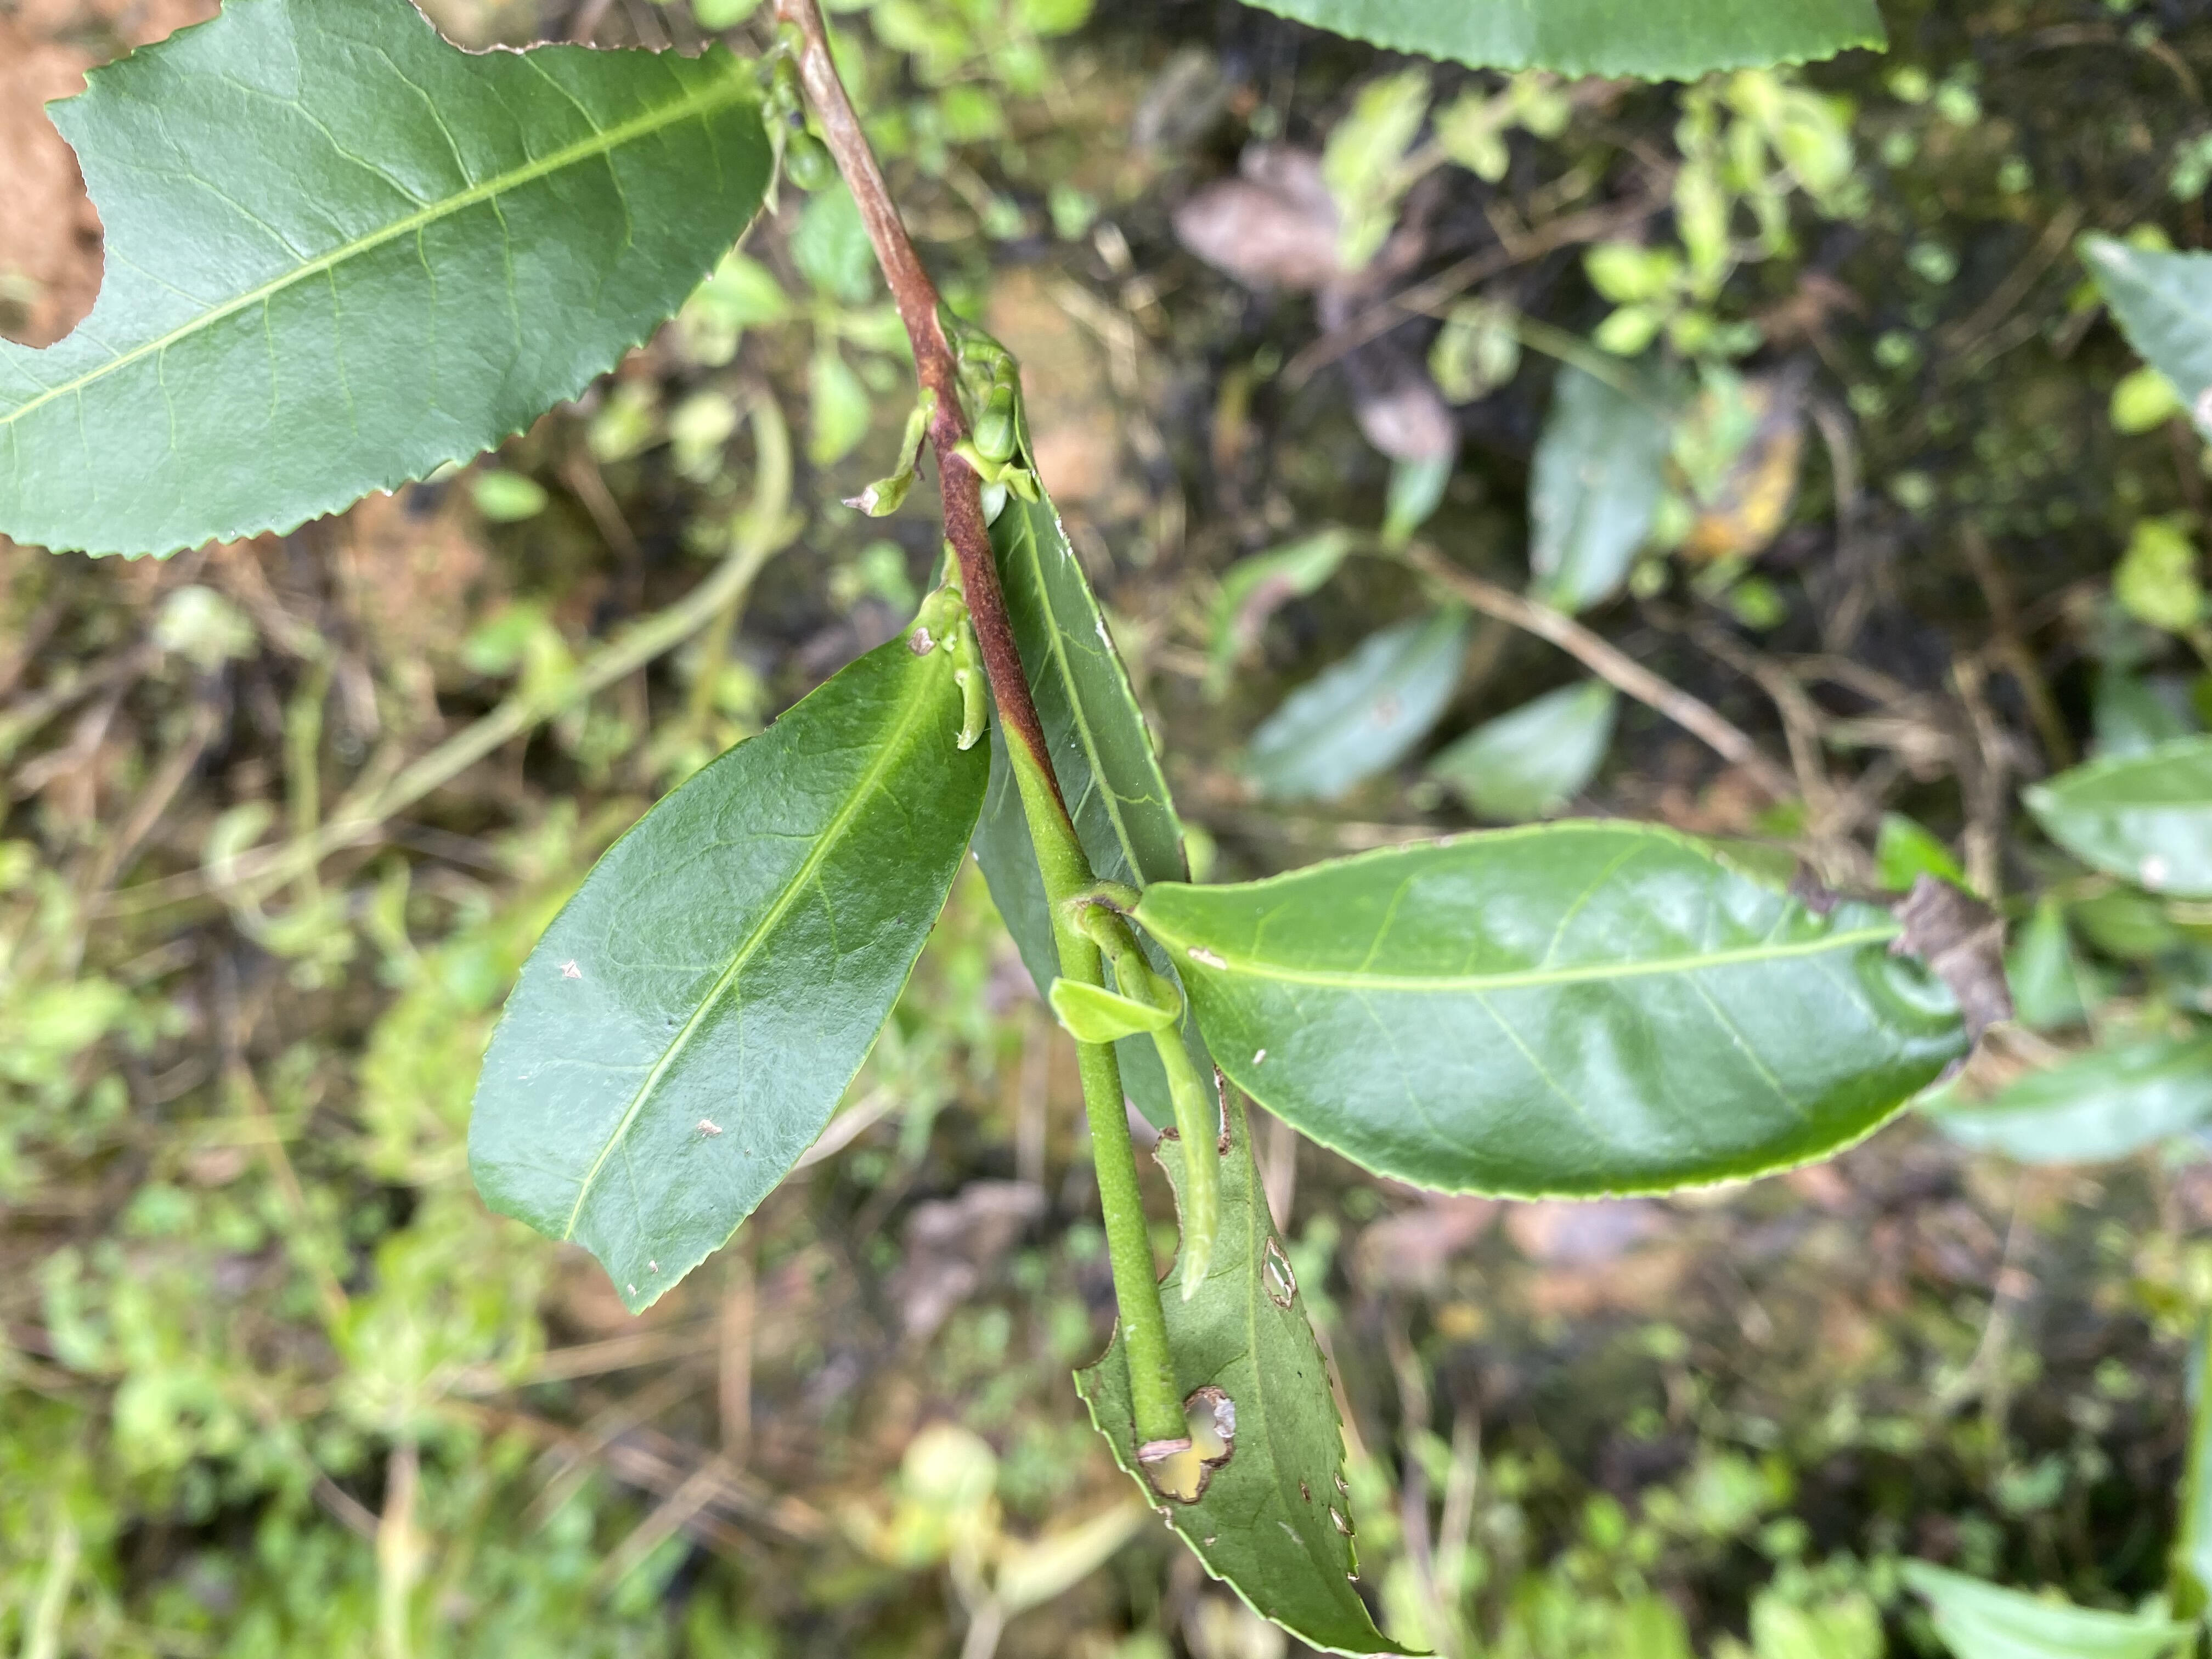chihuo_high: (3, 2, 779, 565)
chihuo_low: (463, 627, 995, 1319)
tanju_high: (1136, 817, 2013, 1204), (1066, 1063, 1428, 1659)
